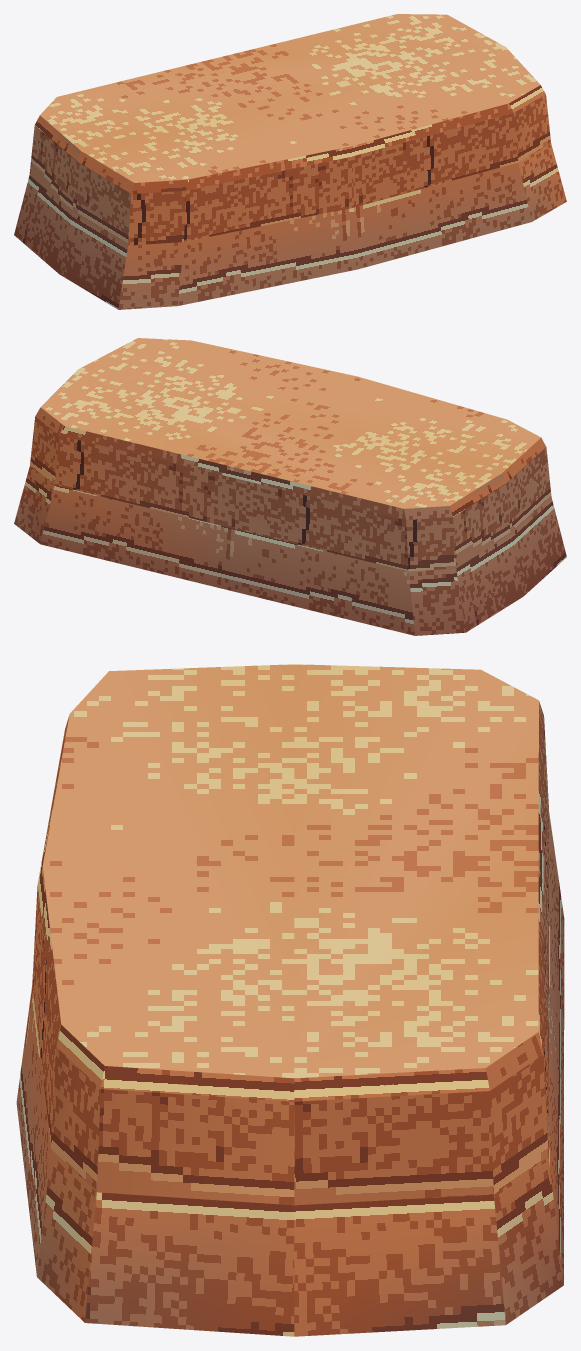
File: wland.ledge.glb
The picture shows the model from 3 angles, top to bottom: view 1: azimuth 30°, elevation 25°; view 2: azimuth 150°, elevation 25°; view 3: azimuth 270°, elevation 25°; orthographic projection. The views are drawn at different scales.
Parts seen in each view (by area): view 1: kit_ledge; view 2: kit_ledge; view 3: kit_ledge.
Part boxes in pixels (<box>): kit_ledge: <box>14,14,566,309</box>; kit_ledge: <box>14,338,566,635</box>; kit_ledge: <box>16,664,564,1336</box>.
Bounding box in the file's own units: 8.3 × 2 × 4.2.
4 materials, 4 textured.
